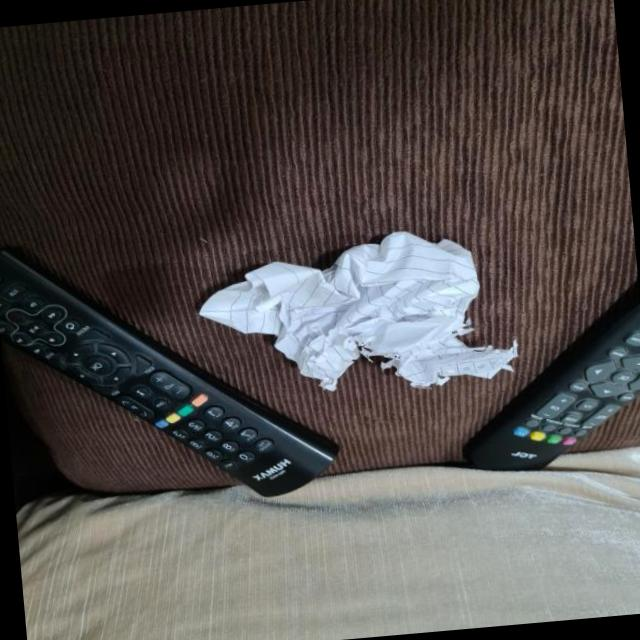cardboard paper: (199, 234, 515, 391)
